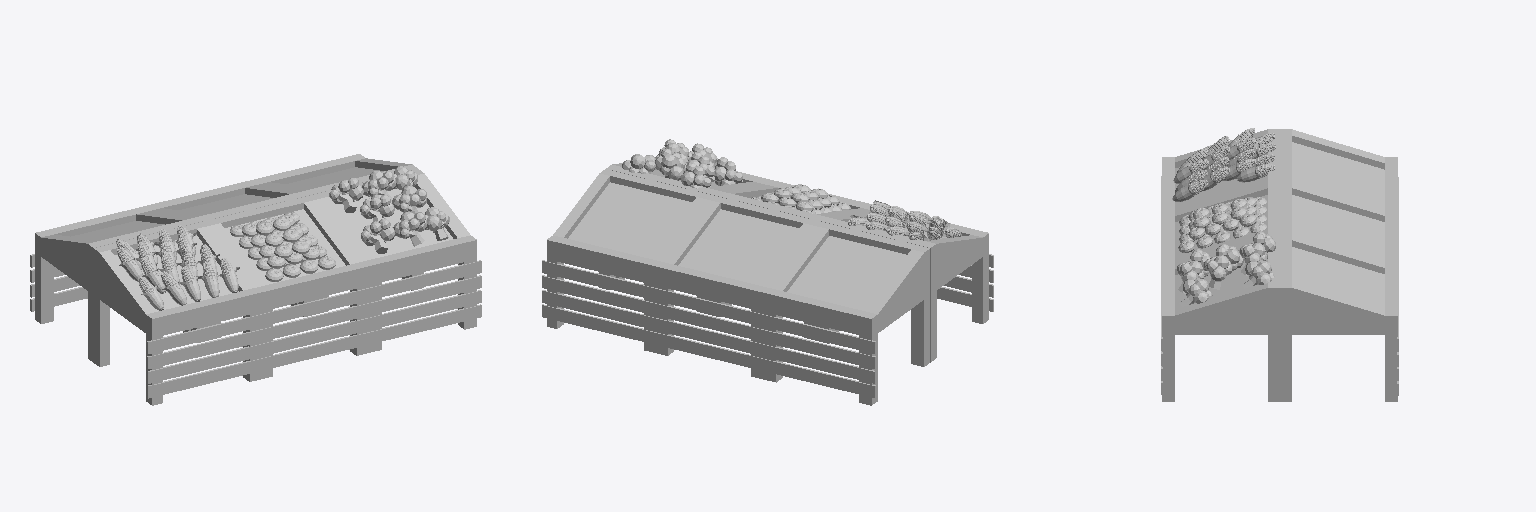
Rendered from ProduceTable.obj.
3 renders of one model, left to right at view 1: azimuth 30°, elevation 25°; view 2: azimuth 150°, elevation 25°; view 3: azimuth 270°, elevation 25°, orthographic.
Parts seen in each view (by area): view 1: Produce_Table; view 2: Produce_Table; view 3: Produce_Table.
Part boxes in pixels (x1,y1,x2,y2): Produce_Table: (30, 154, 481, 405); Produce_Table: (542, 139, 993, 405); Produce_Table: (1161, 128, 1398, 401).
Bounding box in the file's own units: 3.57 × 1.37 × 2.2.